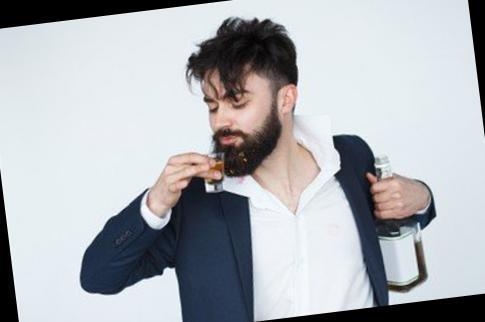Drunk: (202, 66, 277, 162)
